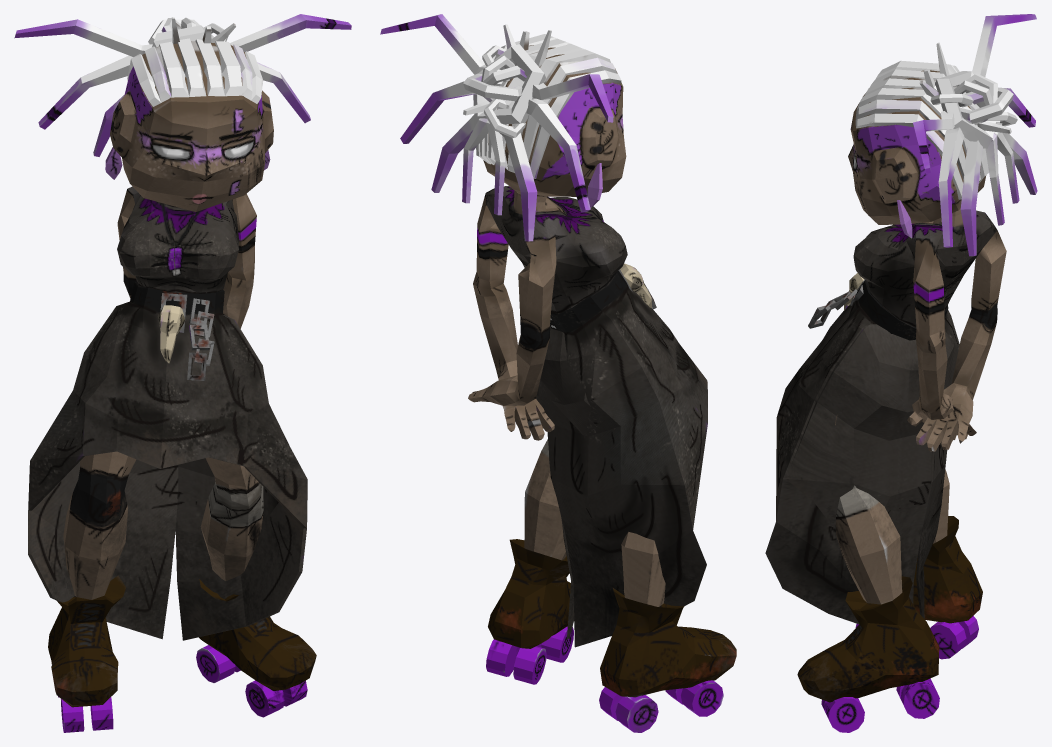
File: bruja_000048.obj
The picture shows the model from 3 angles, left to right: view 1: azimuth 30°, elevation 25°; view 2: azimuth 150°, elevation 25°; view 3: azimuth 270°, elevation 25°; orthographic projection. The views are drawn at different scales.
Parts seen in each view (by area): view 1: Bruja_Plane.001; view 2: Bruja_Plane.001; view 3: Bruja_Plane.001.
Boxes of the visible parts, x1,y1,x2,y2 form: Bruja_Plane.001: [14, 14, 351, 732]; Bruja_Plane.001: [380, 14, 736, 732]; Bruja_Plane.001: [765, 14, 1037, 732].
Size of the model in its own units: 8.08 by 16.06 by 6.02.
